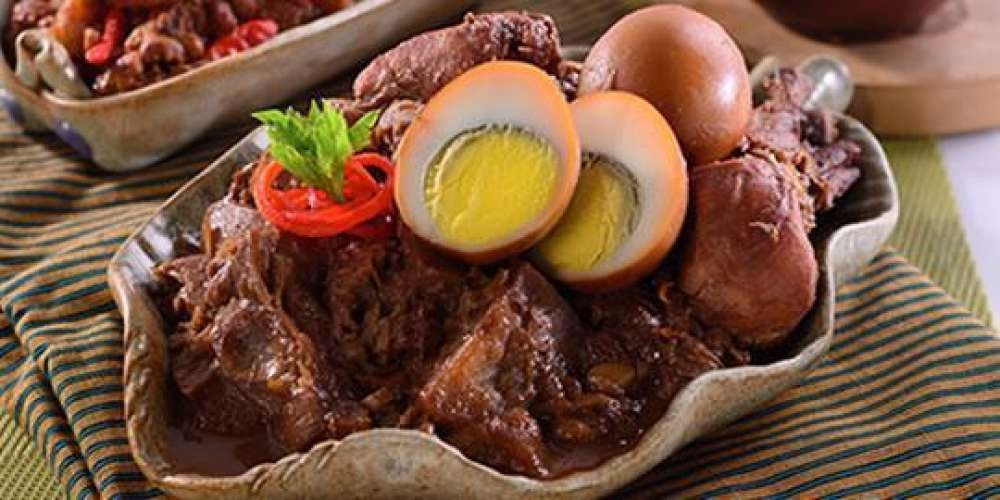gudeg: (188, 31, 896, 467)
